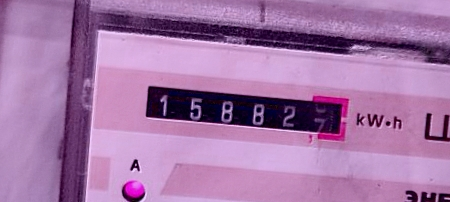1: (156, 91, 171, 118)
2: (280, 103, 298, 130)
5: (187, 95, 204, 123)
7: (311, 115, 327, 133)
8: (218, 98, 236, 125), (250, 101, 267, 128)
screen: (134, 73, 357, 151)
